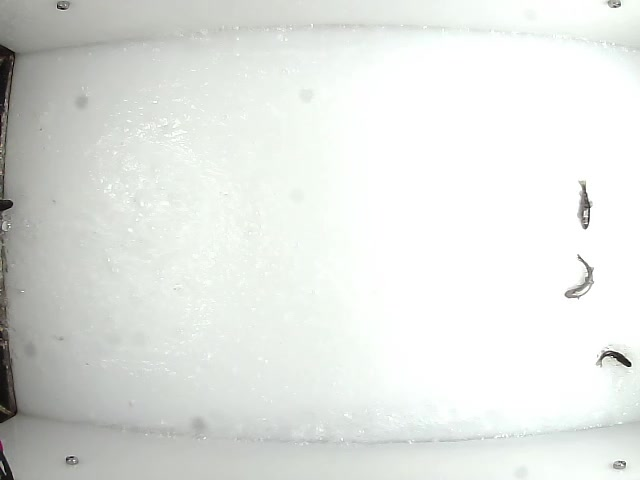fish: (562, 252, 594, 301), (576, 175, 594, 231), (596, 349, 634, 370)
